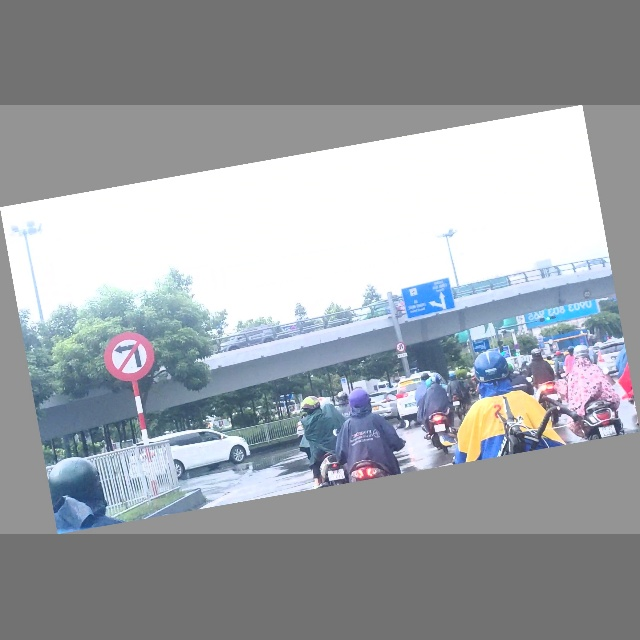P.123b: (100, 328, 159, 388)
P.124b1: (395, 342, 407, 354)
